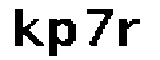7: (84, 5, 114, 46)
k: (12, 7, 45, 48)
p: (44, 15, 80, 60)
r: (117, 16, 143, 50)
